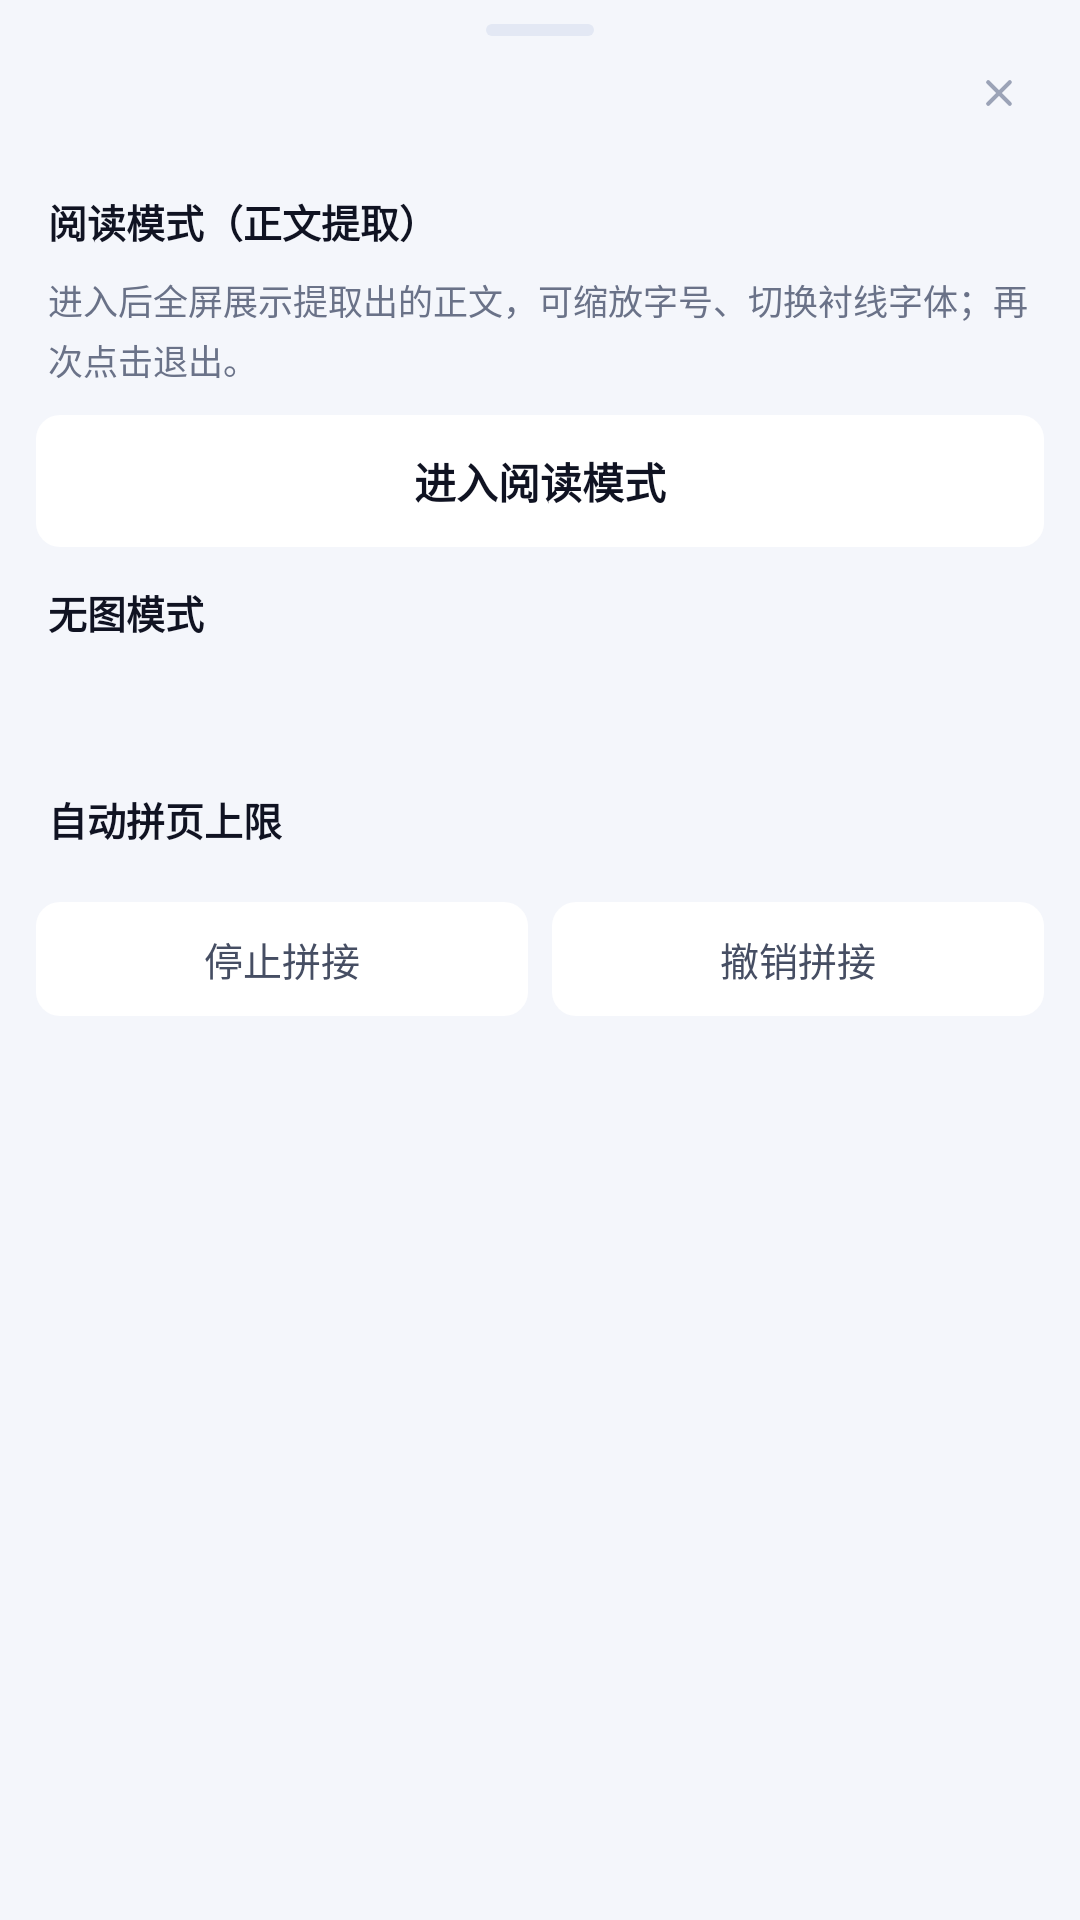

Screen size 1080 × 1920. Icon name, then its box in pixels as (left=x1, top=y1, right=x2, bottom=y2):
关闭: (left=986, top=80, right=1012, bottom=106)
